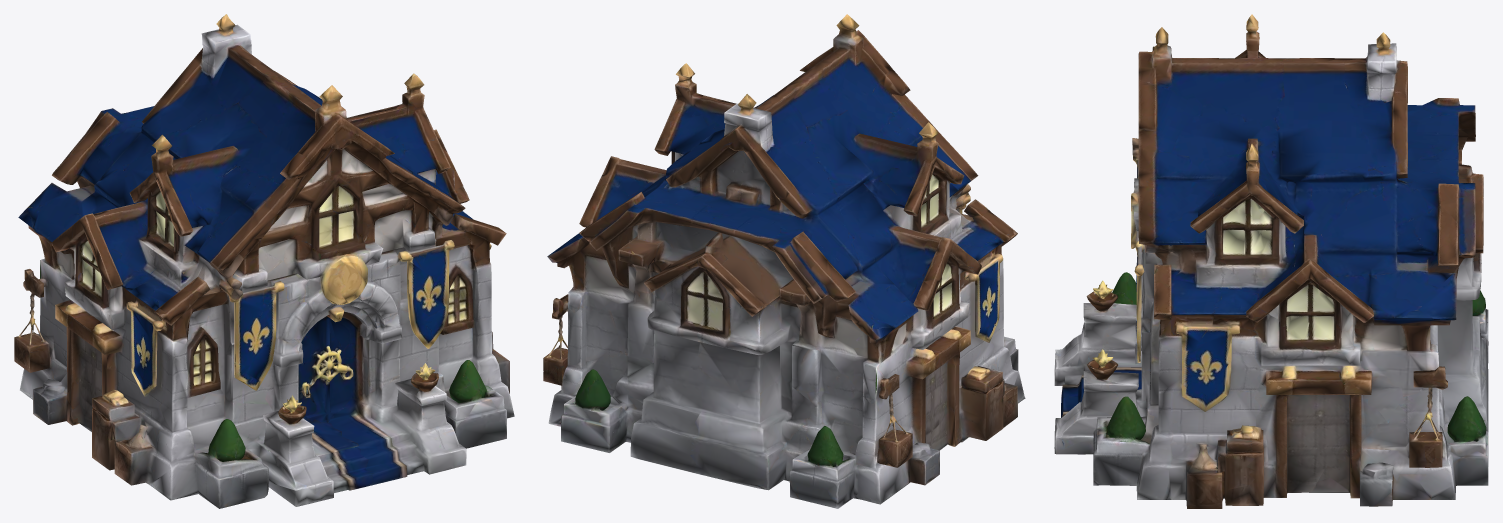
File: bank_7_8.glb
3 views of the same model, side by side, from view 1: azimuth 30°, elevation 25°; view 2: azimuth 150°, elevation 25°; view 3: azimuth 270°, elevation 25° (orthographic). The views are drawn at different scales.
Bounding box in the file's own units: 1.9 × 1.74 × 1.77.
Materials: 1 (1 with a texture image).
